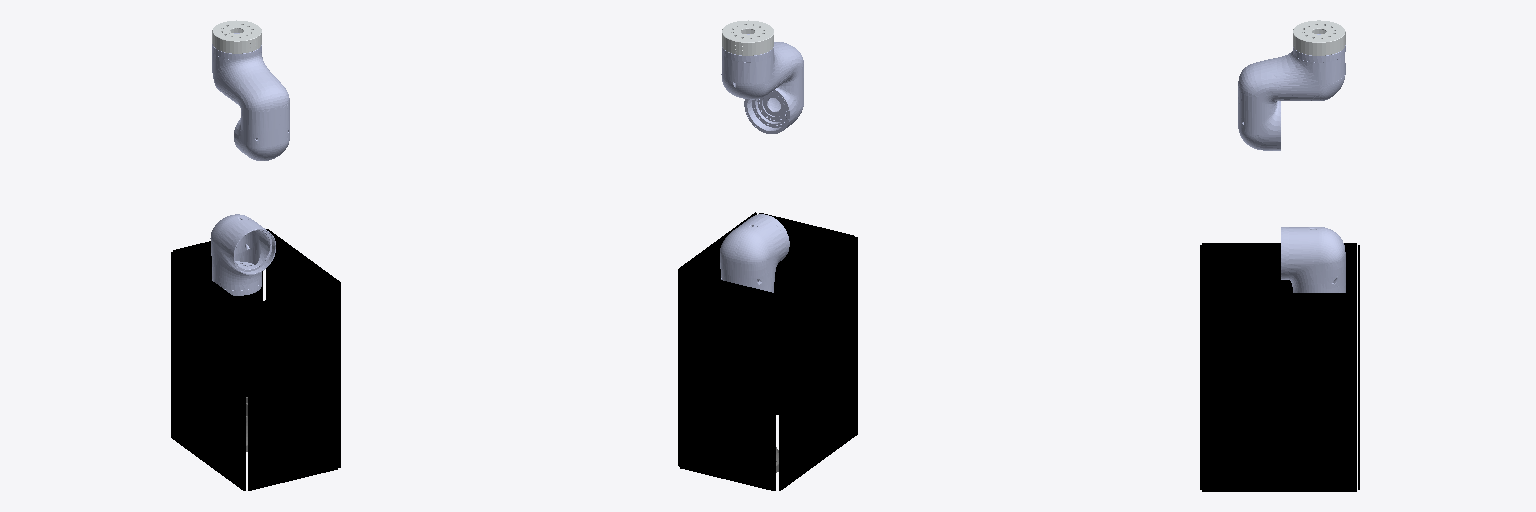
The robot description file, URDF, robot "oil_description":
<?xml version="1.0" encoding="utf-8"?>
<!-- This URDF was automatically created by SolidWorks to URDF Exporter! Originally created by [author] ([email redacted]) 
     Commit Version: 1.5.0-0-g9aa0fdb  Build Version: 1.5.7004.21443
     For more information, please see http://wiki.ros.org/sw_urdf_exporter -->
<robot
  name="oil_description">
  <link
    name="base_link">
    <!-- <inertial>
      <origin
        xyz="4.12602907480409E-07 -3.10617298204974E-07 0.0712599778945153"
        rpy="0 0 0" />
      <mass
        value="6.78936360044673" />
      <inertia
        ixx="0.0953334118462338"
        ixy="1.10364074354538E-06"
        ixz="-1.20924287473749E-07"
        iyy="0.0953288626670654"
        iyz="2.11141199054294E-08"
        izz="0.156459291725264" />
    </inertial> -->
    <visual>
      <origin
        xyz="0 0 0"
        rpy="0 0 0" />
      <geometry>
        <mesh
          filename="package://oil_description/meshes/base_link.STL" />
      </geometry>
      <material
        name="">
        <color
          rgba="0.501960784313725 0.501960784313725 0.501960784313725 1" />
      </material>
    </visual>
    <collision>
      <origin
        xyz="0 0 0"
        rpy="0 0 0" />
      <geometry>
        <mesh
          filename="package://oil_description/meshes/base_link.STL" />
      </geometry>
    </collision>
  </link>
  <link
    name="link1">
    <inertial>
      <origin
        xyz="-1.71990891676971E-05 -0.0294811073190644 0.172812033953378"
        rpy="0 0 0" />
      <mass
        value="5.2406136733608" />
      <inertia
        ixx="0.0648292633354279"
        ixy="-1.15352455713251E-06"
        ixz="-4.40051546579226E-07"
        iyy="0.0818952183802923"
        iyz="0.00894937370819228"
        izz="0.0767672187180154" />
    </inertial>
    <visual>
      <origin
        xyz="0 0 0"
        rpy="0 0 0" />
      <geometry>
        <mesh
          filename="package://oil_description/meshes/link1.STL" />
      </geometry>
      <material
        name="">
        <color
          rgba="0.792156862745098 0.819607843137255 0.933333333333333 1" />
      </material>
    </visual>
    <collision>
      <origin
        xyz="0 0 0"
        rpy="0 0 0" />
      <geometry>
        <mesh
          filename="package://oil_description/meshes/link1.STL" />
      </geometry>
    </collision>
  </link>
  <joint
    name="joint1"
    type="revolute">
    <origin
      xyz="0 0 0.2105"
      rpy="0 0 0" />
    <parent
      link="base_link" />
    <child
      link="link1" />
    <axis
      xyz="0 0 1" />
    <limit
      lower="-0.42"
      upper="0.42"
      effort="0"
      velocity="0" />
  </joint>
  <link
    name="link2">
    <inertial>
      <origin
        xyz="8.38779527037309E-05 0.143900900784665 0.00259683139342703"
        rpy="0 0 0" />
      <mass
        value="6.88939404184731" />
      <inertia
        ixx="0.182727261215811"
        ixy="1.74508648029479E-05"
        ixz="-4.46433331626517E-05"
        iyy="0.134885419518281"
        iyz="0.036716343715663"
        izz="0.168241030599921" />
    </inertial>
    <visual>
      <origin
        xyz="0 0 0"
        rpy="0 0 0" />
      <geometry>
        <mesh
          filename="package://oil_description/meshes/link2.STL" />
      </geometry>
      <material
        name="">
        <color
          rgba="0.792156862745098 0.819607843137255 0.933333333333333 1" />
      </material>
    </visual>
    <collision>
      <origin
        xyz="0 0 0"
        rpy="0 0 0" />
      <geometry>
        <mesh
          filename="package://oil_description/meshes/link2.STL" />
      </geometry>
    </collision>
  </link>
  <joint
    name="joint2"
    type="revolute">
    <origin
      xyz="0 -0.2095 0.3005"
      rpy="1.5708 0 0" />
    <parent
      link="link1" />
    <child
      link="link2" />
    <axis
      xyz="0 0 -1" />
    <limit
      lower="-1.000"
      upper="1.000"
      effort="0"
      velocity="0" />
  </joint>
  <link
    name="link3">
    <inertial>
      <origin
        xyz="-1.71788962591073E-05 -0.0294810761514921 0.172812076116232"
        rpy="0 0 0" />
      <mass
        value="5.2406150592868" />
      <inertia
        ixx="0.0648292604284833"
        ixy="-1.15449795834136E-06"
        ixz="-4.4247230645346E-07"
        iyy="0.0818952272251022"
        iyz="0.00894937477771033"
        izz="0.0767672282110678" />
    </inertial>
    <visual>
      <origin
        xyz="0 0 0"
        rpy="0 0 0" />
      <geometry>
        <mesh
          filename="package://oil_description/meshes/link3.STL" />
      </geometry>
      <material
        name="">
        <color
          rgba="0.792156862745098 0.819607843137255 0.933333333333333 1" />
      </material>
    </visual>
    <collision>
      <origin
        xyz="0 0 0"
        rpy="0 0 0" />
      <geometry>
        <mesh
          filename="package://oil_description/meshes/link3.STL" />
      </geometry>
    </collision>
  </link>
  <joint
    name="joint3"
    type="revolute">
    <origin
      xyz="0 0.4805 -0.2095"
      rpy="-1.5708 0 0" />
    <parent
      link="link2" />
    <child
      link="link3" />
    <axis
      xyz="0 0 -1" />
    <limit
      lower="-0.42"
      upper="0.42"
      effort="0"
      velocity="0" />
  </joint>
  <link
    name="link4">
    <inertial>
      <origin
        xyz="8.37125518096271E-05 0.14390098810799 0.00259677297824296"
        rpy="0 0 0" />
      <mass
        value="6.88938664927084" />
      <inertia
        ixx="0.18272730153848"
        ixy="1.73693555884047E-05"
        ixz="-4.45660513919948E-05"
        iyy="0.134885285598236"
        iyz="0.0367163577443013"
        izz="0.168240903239268" />
    </inertial>
    <visual>
      <origin
        xyz="0 0 0"
        rpy="0 0 0" />
      <geometry>
        <mesh
          filename="package://oil_description/meshes/link4.STL" />
      </geometry>
      <material
        name="">
        <color
          rgba="0.792156862745098 0.819607843137255 0.933333333333333 1" />
      </material>
    </visual>
    <collision>
      <origin
        xyz="0 0 0"
        rpy="0 0 0" />
      <geometry>
        <mesh
          filename="package://oil_description/meshes/link4.STL" />
      </geometry>
    </collision>
  </link>
  <joint
    name="joint4"
    type="revolute">
    <origin
      xyz="0 -0.2095 0.3005"
      rpy="1.5708 0 0" />
    <parent
      link="link3" />
    <child
      link="link4" />
    <axis
      xyz="0 0 -1" />
    <limit
      lower="-1.000"
      upper="1.000"
      effort="0"
      velocity="0" />
  </joint>
  <link
    name="link5">
    <inertial>
      <origin
        xyz="-1.71828041429507E-05 -0.0294810808679672 0.172812069245769"
        rpy="0 0 0" />
      <mass
        value="5.24061482822974" />
      <inertia
        ixx="0.0648292617532774"
        ixy="-1.15391904203948E-06"
        ixz="-4.41788936027083E-07"
        iyy="0.081895224184908"
        iyz="0.00894937411761489"
        izz="0.0767672242965342" />
    </inertial>
    <visual>
      <origin
        xyz="0 0 0"
        rpy="0 0 0" />
      <geometry>
        <mesh
          filename="package://oil_description/meshes/link5.STL" />
      </geometry>
      <material
        name="">
        <color
          rgba="0.792156862745098 0.819607843137255 0.933333333333333 1" />
      </material>
    </visual>
    <collision>
      <origin
        xyz="0 0 0"
        rpy="0 0 0" />
      <geometry>
        <mesh
          filename="package://oil_description/meshes/link5.STL" />
      </geometry>
    </collision>
  </link>
  <joint
    name="joint5"
    type="revolute">
    <origin
      xyz="0 0.4805 -0.2095"
      rpy="-1.5708 0 0" />
    <parent
      link="link4" />
    <child
      link="link5" />
    <axis
      xyz="0 0 -1" />
    <limit
      lower="-3.0"
      upper="3.0"
      effort="0"
      velocity="0" />
  </joint>
  <link
    name="link6">
    <inertial>
      <origin
        xyz="8.37609129031107E-05 0.143900936952716 0.00259683399496513"
        rpy="0 0 0" />
      <mass
        value="6.88938989622059" />
      <inertia
        ixx="0.18272729754521"
        ixy="1.75162807950201E-05"
        ixz="-4.4684612929509E-05"
        iyy="0.134885472534082"
        iyz="0.0367163483643782"
        izz="0.168241136377011" />
    </inertial>
    <visual>
      <origin
        xyz="0 0 0"
        rpy="0 0 0" />
      <geometry>
        <mesh
          filename="package://oil_description/meshes/link6.STL" />
      </geometry>
      <material
        name="">
        <color
          rgba="0.792156862745098 0.819607843137255 0.933333333333333 1" />
      </material>
    </visual>
    <collision>
      <origin
        xyz="0 0 0"
        rpy="0 0 0" />
      <geometry>
        <mesh
          filename="package://oil_description/meshes/link6.STL" />
      </geometry>
    </collision>
  </link>
  <joint
    name="joint6"
    type="revolute">
    <origin
      xyz="0 -0.2095 0.3005"
      rpy="1.5708 0 0" />
    <parent
      link="link5" />
    <child
      link="link6" />
    <axis
      xyz="0 0 -1" />
    <limit
      lower="-1.000"
      upper="1.000"
      effort="0"
      velocity="0" />
  </joint>
  <link
    name="link7">
    <inertial>
      <origin
        xyz="-7.68425293345267E-10 2.49905878584657E-10 0.0616861346519899"
        rpy="0 0 0" />
      <mass
        value="1.18274776395572" />
      <inertia
        ixx="0.00947912731189771"
        ixy="-1.3799925474558E-06"
        ixz="-2.41084411319739E-11"
        iyy="0.0094866683690848"
        iyz="4.95597423950793E-11"
        izz="0.0178779894483615" />
    </inertial>
    <visual>
      <origin
        xyz="0 0 0"
        rpy="0 0 0" />
      <geometry>
        <mesh
          filename="package://oil_description/meshes/link7.STL" />
      </geometry>
      <material
        name="">
        <color
          rgba="0.898039215686275 0.917647058823529 0.929411764705882 1" />
      </material>
    </visual>
    <collision>
      <origin
        xyz="0 0 0"
        rpy="0 0 0" />
      <geometry>
        <mesh
          filename="package://oil_description/meshes/link7.STL" />
      </geometry>
    </collision>
  </link>
  <joint
    name="joint7"
    type="revolute">
    <origin
      xyz="0 0.4805 -0.2095"
      rpy="-1.5708 0 0" />
    <parent
      link="link6" />
    <child
      link="link7" />
    <axis
      xyz="0 0 -1" />
    <limit
      lower="-3.5"
      upper="3.5"
      effort="0"
      velocity="0" />
  </joint>

  <!-- flange -->
  <link
    name="ee_link">
  </link>
  
  <joint
    name="ee_joint"
    type="fixed">
    <origin
      xyz="0 0 0.0815"
      rpy="0 0 0" />
    <parent
      link="link7" />
    <child
      link="ee_link" />
    <axis
      xyz="0 0 0" />
  </joint>

  <!-- abutment -->
  <link
    name="abutment_frame">
  </link>
  
  <joint
    name="abutment_joint"
    type="fixed">
    <origin
      xyz="0 0 0.05"
      rpy="0 0 0" />
    <parent
      link="ee_link" />
    <child
      link="abutment_frame" />
    <axis
      xyz="0 0 0" />
  </joint>

  <!-- =====================  wall ========================= -->
  <link name="front_wall">
    <visual>
        <origin xyz="0 0 0" rpy="0 0 0" />
        <geometry>
          <box size="0.01 0.85 1.20" />
        </geometry>
        <material
          name="">
          <color
            rgba="0 0 0 0.5" />
        </material>
    </visual>
    <collision>
        <origin xyz="0 0 0" rpy="0 0 0" />
        <geometry>
          <box size="0.01 0.85 1.20" />
        </geometry>
    </collision>
  </link>

  <joint
    name="front_joint"
    type="fixed">
    <origin
      xyz="0.32 -0.22 0.60"
      rpy="0 0 0" />
    <parent
      link="base_link" />
    <child
      link="front_wall" />
    <axis
      xyz="0 0 0" />
  </joint>

  <link name="back_wall">
    <visual>
        <origin xyz="0 0 0" rpy="0 0 0" />
        <geometry>
          <box size="0.01 0.85 1.20" />
        </geometry>
        <material
          name="">
          <color
            rgba="0 0 0 0.5" />
        </material>
    </visual>
    <collision>
        <origin xyz="0 0 0" rpy="0 0 0" />
        <geometry>
          <box size="0.01 0.85 1.20" />
        </geometry>
    </collision>
  </link>

  <joint
    name="back_joint"
    type="fixed">
    <origin
      xyz="-0.32 -0.22 0.60"
      rpy="0 0 0" />
    <parent
      link="base_link" />
    <child
      link="back_wall" />
    <axis
      xyz="0 0 0" />
  </joint>

  <link name="left_wall">
    <visual>
        <origin xyz="0 0 0" rpy="0 0 0" />
        <geometry>
          <box size="0.6 0.01 1.20" />
        </geometry>
        <material
          name="">
          <color
            rgba="0 0 0 0.5" />
        </material>
    </visual>
    <collision>
        <origin xyz="0 0 0" rpy="0 0 0" />
        <geometry>
          <box size="0.6 0.01 1.20" />
        </geometry>
    </collision>
  </link>

  <joint
    name="left_joint"
    type="fixed">
    <origin
      xyz="0.0 0.22 0.60"
      rpy="0 0 0" />
    <parent
      link="base_link" />
    <child
      link="left_wall" />
    <axis
      xyz="0 0 0" />
  </joint>

  <link name="right_wall">
    <visual>
        <origin xyz="0 0 0" rpy="0 0 0" />
        <geometry>
          <box size="0.6 0.01 1.20" />
        </geometry>
        <material
          name="">
          <color
            rgba="0 0 0 0.5" />
        </material>
    </visual>
    <collision>
        <origin xyz="0 0 0" rpy="0 0 0" />
        <geometry>
          <box size="0.6 0.01 1.20" />
        </geometry>
    </collision>
  </link>

  <joint
    name="right_joint"
    type="fixed">
    <origin
      xyz="0.0 -0.65 0.60"
      rpy="0 0 0" />
    <parent
      link="base_link" />
    <child
      link="right_wall" />
    <axis
      xyz="0 0 0" />
  </joint>
</robot>

--- Render facts (derived) ---
3 views of the same robot in one strip: view 1: azimuth 30°, elevation 25°; view 2: azimuth 150°, elevation 25°; view 3: azimuth 270°, elevation 25° (orthographic).
Robot: oil_description — 14 links, 13 joints (7 revolute, 6 fixed); root link base_link; default pose: all joints at 0.
Links seen in each view (by area): view 1: right_wall, back_wall, link6, link3, front_wall, link7, left_wall; view 2: left_wall, back_wall, link6, link3, right_wall, link7, front_wall; view 3: front_wall, link6, back_wall, link3, link7.
Boxes of the visible links, bbox=[...] form: right_wall: bbox=[248, 283, 337, 490]; back_wall: bbox=[171, 252, 245, 490]; link6: bbox=[212, 33, 289, 160]; link3: bbox=[210, 214, 275, 295]; front_wall: bbox=[266, 229, 340, 467]; link7: bbox=[212, 20, 261, 53]; left_wall: bbox=[173, 241, 262, 396]; left_wall: bbox=[680, 270, 775, 490]; back_wall: bbox=[779, 237, 857, 490]; link6: bbox=[721, 34, 803, 133]; link3: bbox=[720, 214, 789, 292]; right_wall: bbox=[759, 213, 854, 414]; link7: bbox=[722, 20, 773, 55]; front_wall: bbox=[678, 212, 756, 466]; front_wall: bbox=[1202, 293, 1356, 491]; link6: bbox=[1238, 34, 1345, 150]; back_wall: bbox=[1202, 243, 1356, 292]; link3: bbox=[1281, 227, 1345, 292]; link7: bbox=[1293, 20, 1345, 55].
Size in the robot's own frame: 0.65 by 0.88 by 2.63 metres.
Meshes: 8 distinct files referenced, 4 mesh visuals loaded (4 binary STL); not drawn: 4 (reference not matched to a file when rendering).